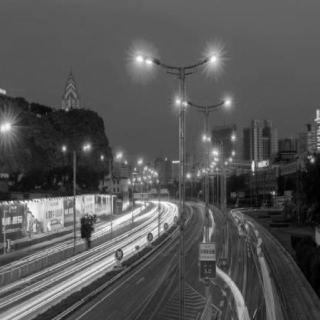other: (2, 111, 18, 148), (249, 158, 275, 175)
